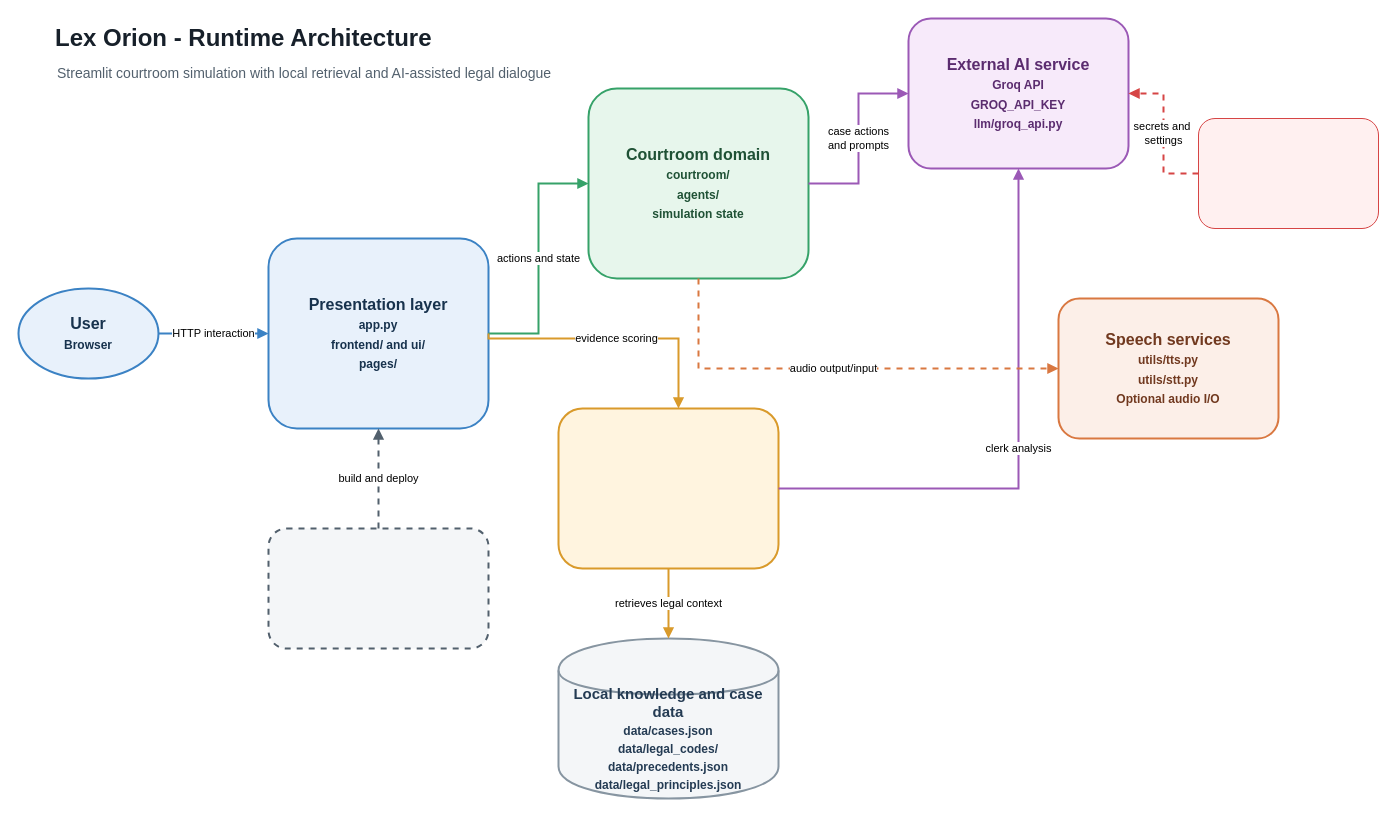
The diagram is 1396 pixels wide and 816 high, and some of its shapes have lost their labels. The shapes that lost their labels are listed below. From the top down, each one's centre as x and y in pixels, then its label:
At (x=1288, y=173): "Configuration config.py .env / Streamlit Secrets".
At (x=668, y=488): "Evidence intelligence rag/pipeline.py TF-IDF retrieval PDF, DOCX, TXT extraction".
At (x=378, y=588): "Deployment boundary GitHub Actions Streamlit Community Cloud".
